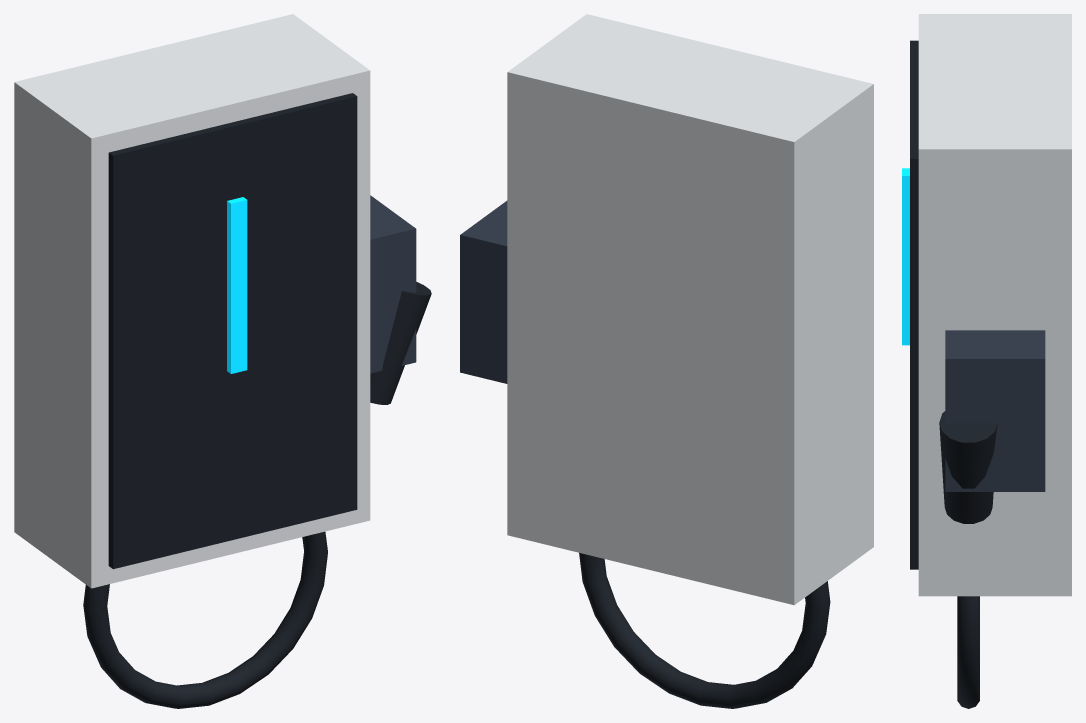
3 views of the same model, side by side, from view 1: azimuth 30°, elevation 25°; view 2: azimuth 150°, elevation 25°; view 3: azimuth 270°, elevation 25° (orthographic). The views are drawn at different scales.
Parts seen in each view (by area): view 1: cad-device-evse; view 2: cad-device-evse; view 3: cad-device-evse.
Part boxes in pixels (x1=…): cad-device-evse: x1=14, y1=14, x2=431, y2=708; cad-device-evse: x1=460, y1=14, x2=873, y2=708; cad-device-evse: x1=902, y1=14, x2=1071, y2=708.
Size of the model in its own units: 0.3106 by 0.509 by 0.1275.
